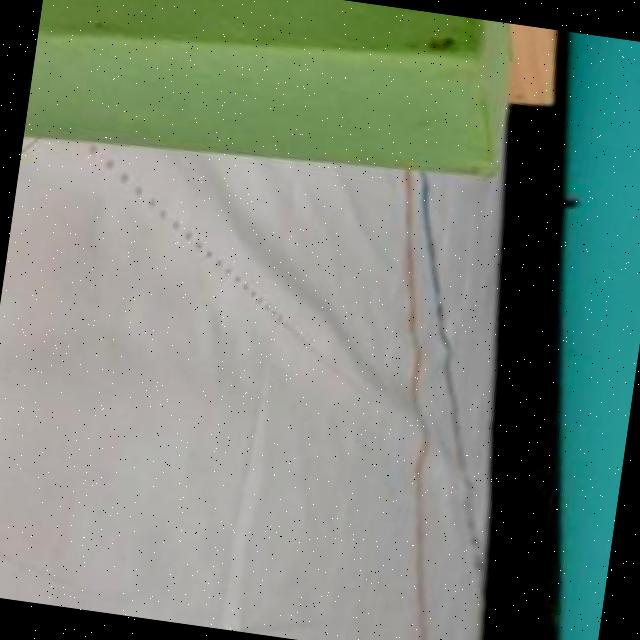greenbox: (22, 0, 525, 207)
